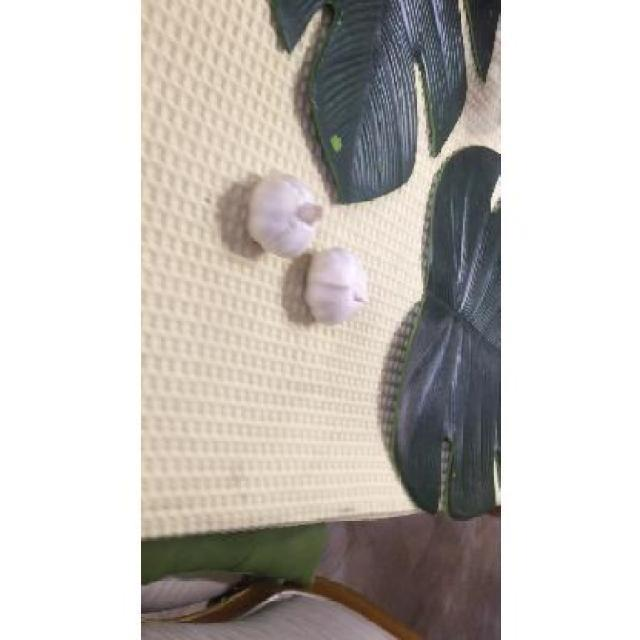garlic: (248, 174, 322, 257), (305, 248, 369, 323)
